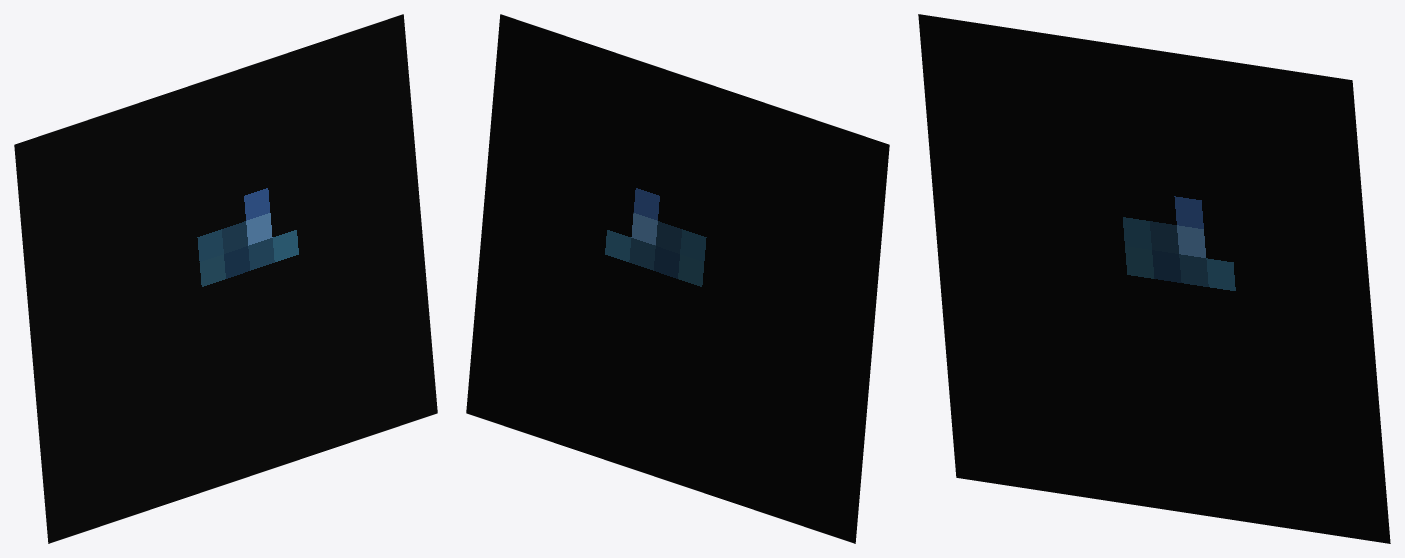
The model's file is soulstealer.gltf.
3 renders of one model, left to right at view 1: azimuth 30°, elevation 25°; view 2: azimuth 150°, elevation 25°; view 3: azimuth 330°, elevation 25°, orthographic. The views are drawn at different scales.
Parts seen in each view (by area): view 1: cube; view 2: cube; view 3: cube.
Part boxes in pixels (<box>): cube: <box>14,14,437,543</box>; cube: <box>466,14,889,543</box>; cube: <box>918,14,1390,543</box>.
Size of the model in its own units: 0.2031 by 0.2031 by 6.25e-05.
1 material, 1 textured.
